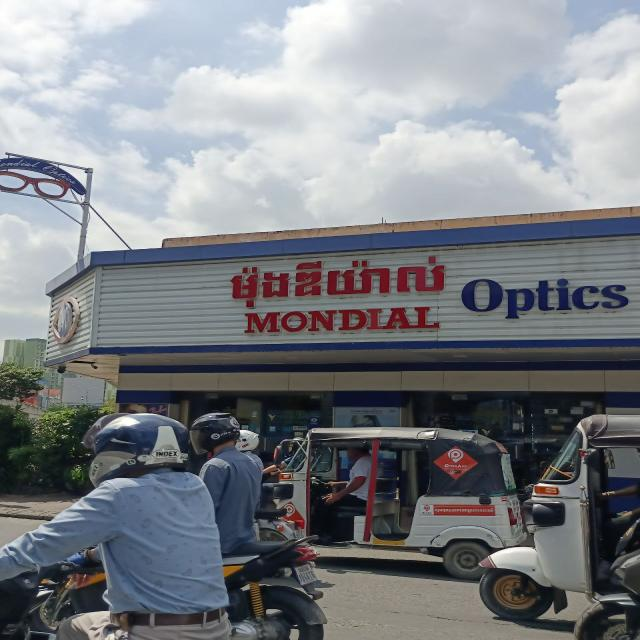Yolov11_80vkh: (218, 250, 455, 310)
